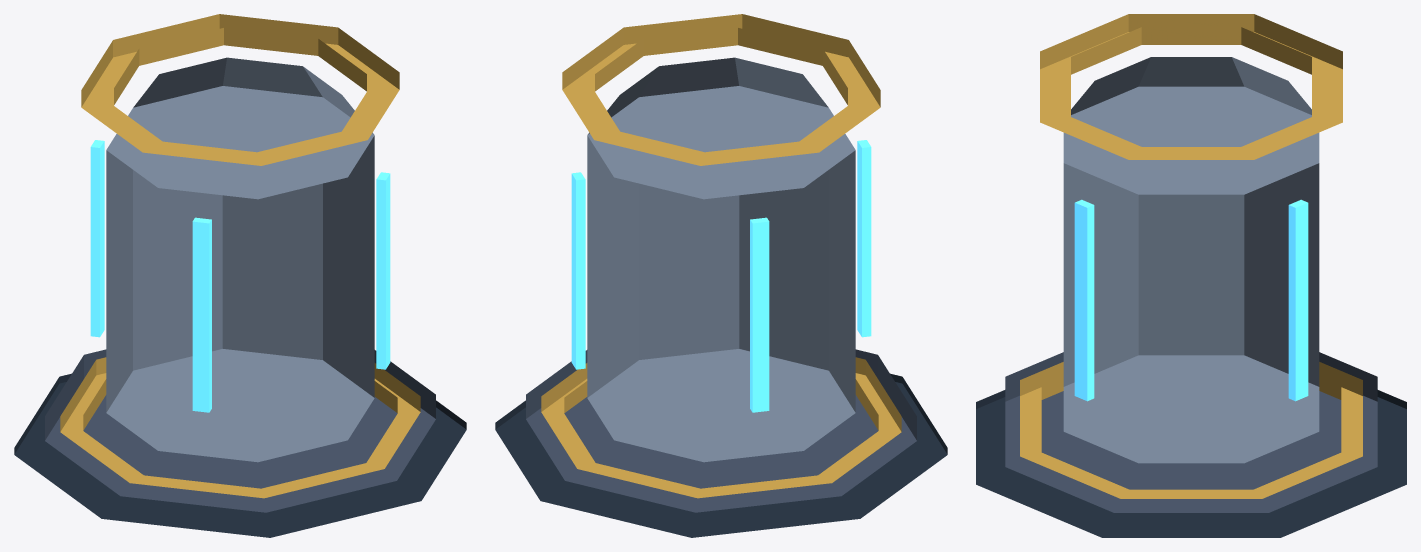
File: containment-artifact.gltf
The picture shows the model from 3 angles, left to right: view 1: azimuth 30°, elevation 25°; view 2: azimuth 150°, elevation 25°; view 3: azimuth 270°, elevation 25°; orthographic projection. The views are drawn at different scales.
Parts seen in each view (by area): view 1: ContainmentModel; view 2: ContainmentModel; view 3: ContainmentModel.
Part boxes in pixels (box(x1,y1,x2,y2)): ContainmentModel: box(14, 14, 466, 537); ContainmentModel: box(495, 14, 947, 537); ContainmentModel: box(976, 14, 1406, 537).
Bounding box in the file's own units: 2.18 × 2.06 × 2.18.
